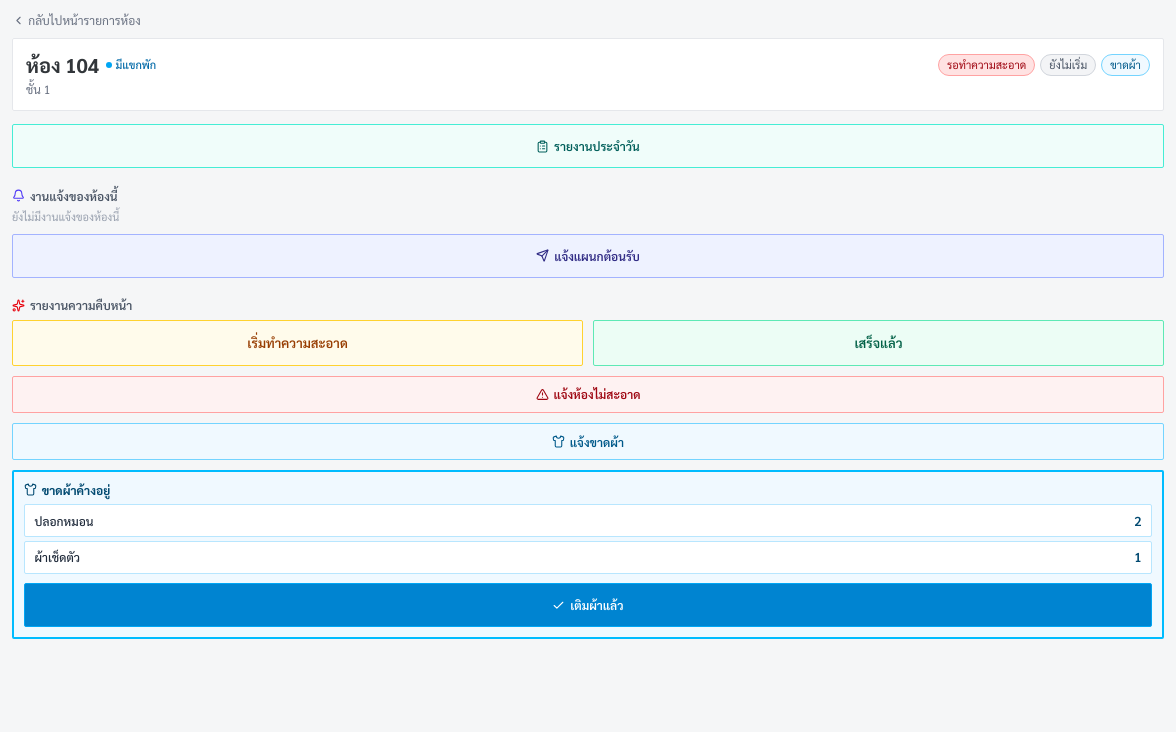
it: ขาดผ้าค้างอยู่ card and เติมผ้าแล้ว › the first tap of เติมผ้าแล้ว issues NO request — it only arms the confirm
Expected: the heading "ห้อง 104" is shown, [26, 52, 99, 78]
Click the button "เติมผ้าแล้ว" at (588, 605), box [24, 583, 1152, 627]
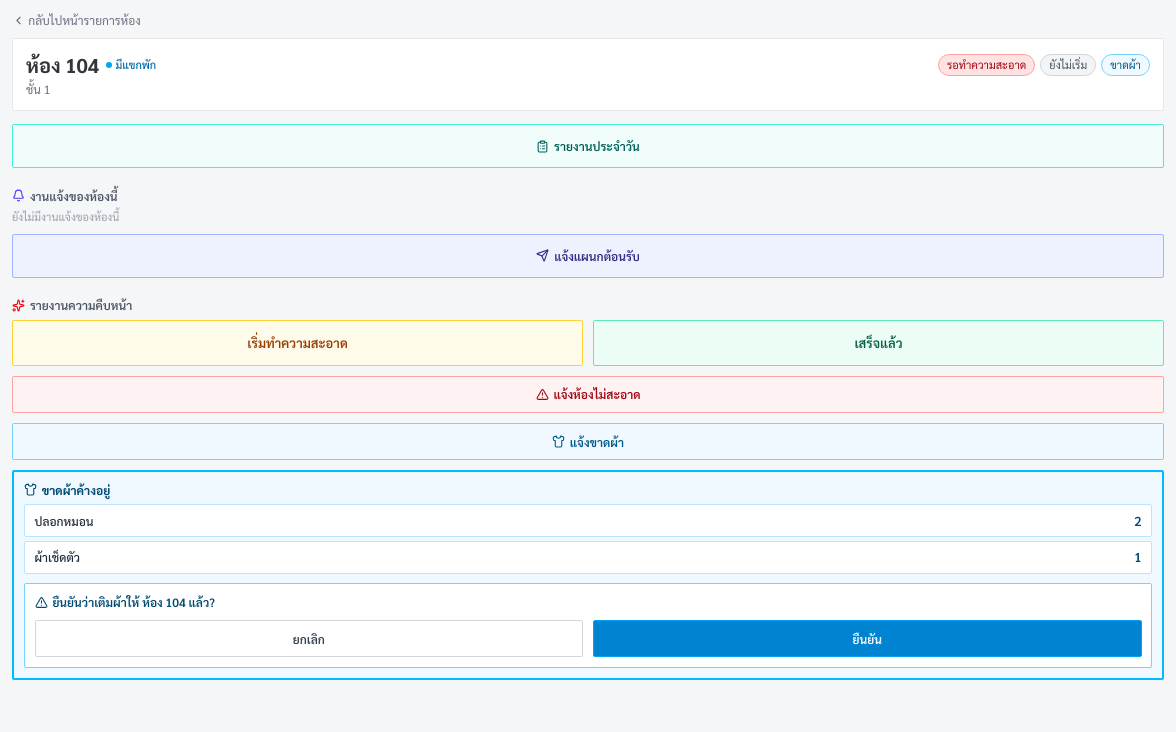
Expected: the text "ยืนยันว่าเติมผ้าให้ ห้อง 104 แล้ว?" is shown, [52, 594, 215, 610]
